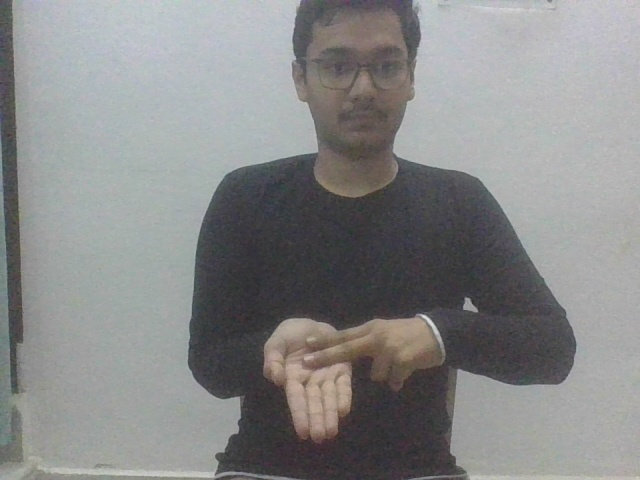N: (256, 310, 449, 442)
